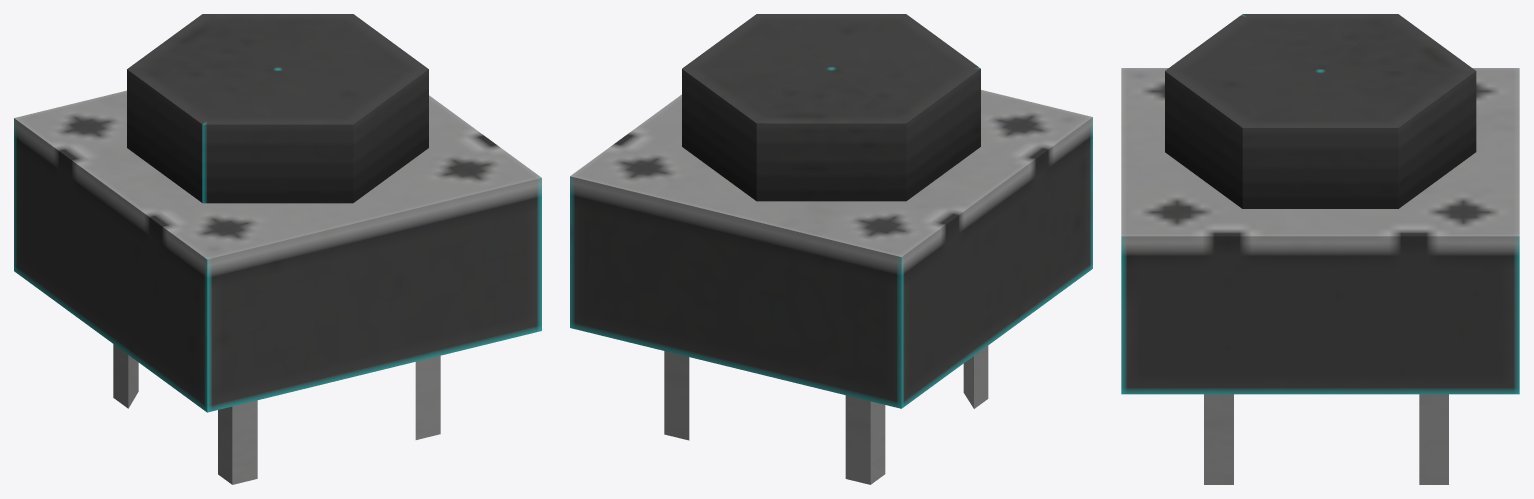
File: Button.obj
3 views of the same model, side by side, from view 1: azimuth 30°, elevation 25°; view 2: azimuth 150°, elevation 25°; view 3: azimuth 270°, elevation 25° (orthographic). The views are drawn at different scales.
Parts seen in each view (by area): view 1: Button_Cube.001; view 2: Button_Cube.001; view 3: Button_Cube.001.
Boxes of the visible parts, x1,y1,x2,y2 form: Button_Cube.001: [14, 14, 541, 484]; Button_Cube.001: [570, 14, 1092, 484]; Button_Cube.001: [1121, 14, 1519, 484].
Size of the model in its own units: 0.2545 by 0.2539 by 0.2544.
